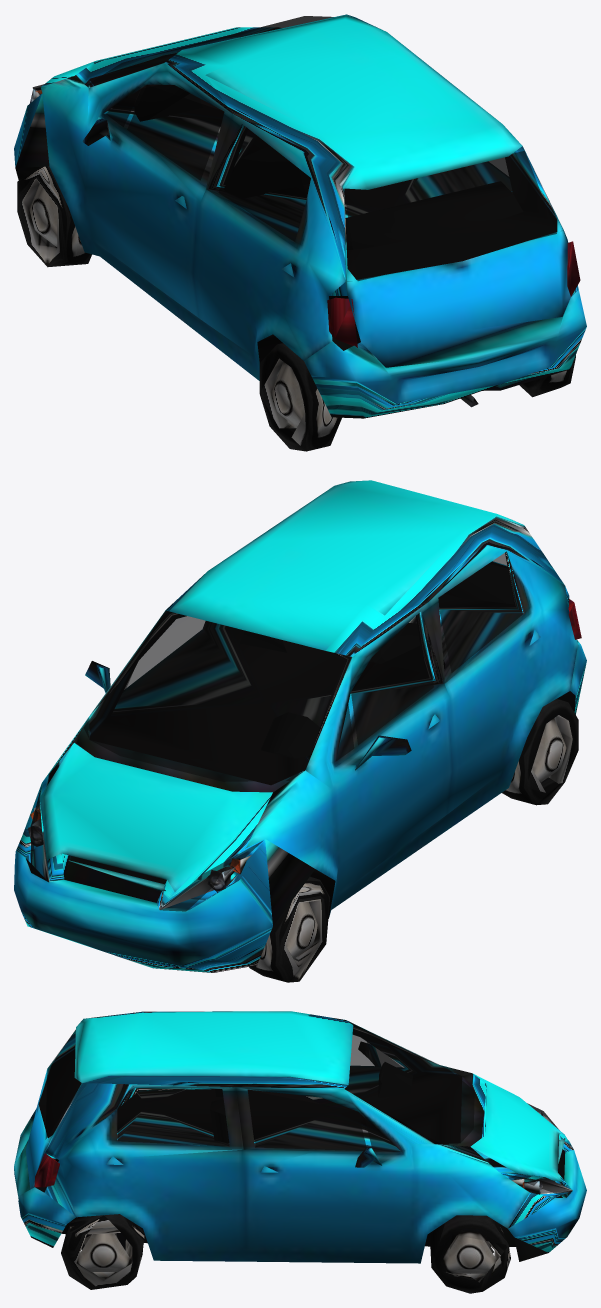
File: c_compact_lo.glb
3 views of the same model, one above another, from view 1: azimuth 30°, elevation 25°; view 2: azimuth 150°, elevation 25°; view 3: azimuth 270°, elevation 25° (orthographic). The views are drawn at different scales.
Visible parts, largest first — view 1: body|Body, body|glass, body|Wheel, body|Optics; view 2: body|Body, body|glass, body|Wheel, body|Optics; view 3: body|Body, body|glass, body|Wheel, body|Optics.
Part boxes in pixels (x1,y1,x2,y2): body|Body: (14, 14, 586, 418); body|glass: (32, 16, 556, 280); body|Wheel: (17, 166, 575, 451); body|Optics: (30, 87, 580, 347); body|Body: (14, 480, 586, 972); body|glass: (31, 553, 522, 911); body|Wheel: (249, 698, 578, 982); body|Optics: (28, 599, 581, 891); body|Body: (14, 1011, 586, 1263); body|glass: (45, 1021, 572, 1197); body|Wheel: (61, 1214, 510, 1293); body|Optics: (34, 1112, 543, 1194).
Bounding box in the file's own units: 1.59 × 1.31 × 3.26.
Materials: 4 (3 with a texture image).
